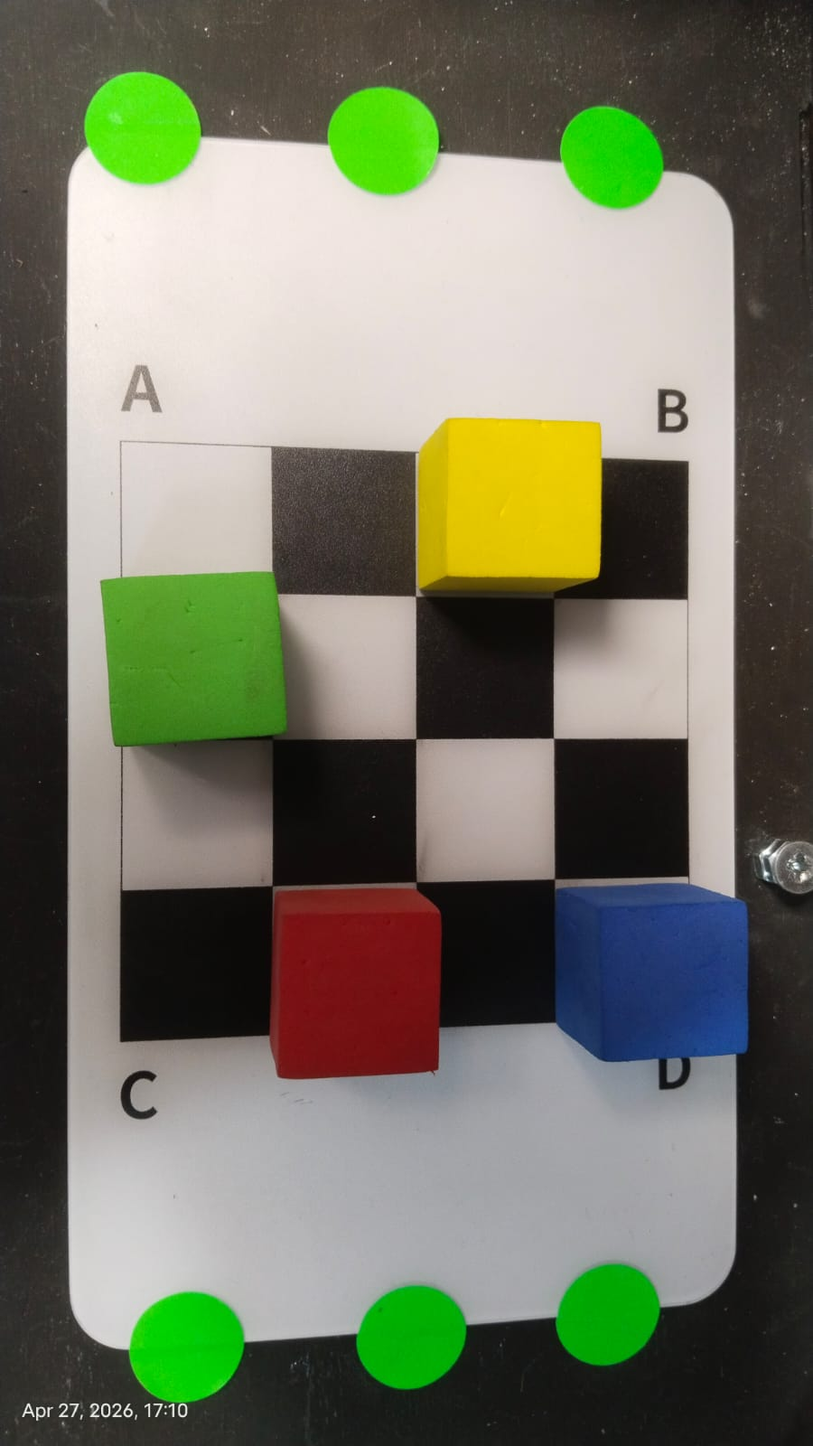blue: (542, 877, 757, 1075)
green: (79, 563, 304, 754)
red: (258, 880, 453, 1089)
yellow: (417, 407, 612, 602)
